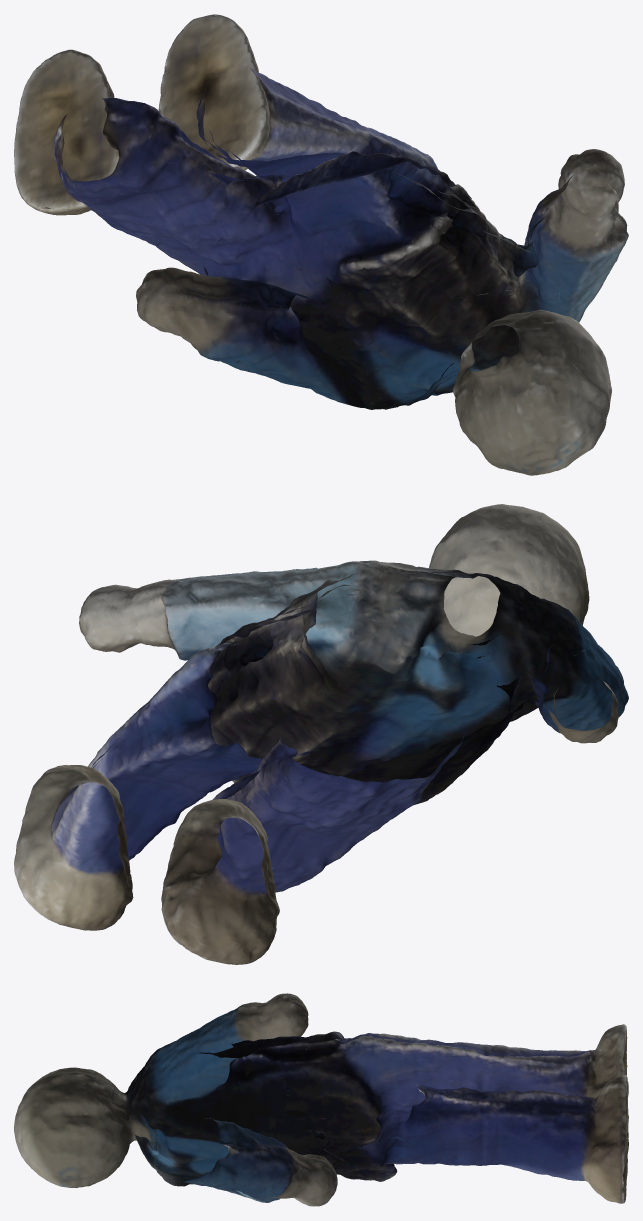
File: grandfather.glb
3 views of the same model, one above another, from view 1: azimuth 30°, elevation 25°; view 2: azimuth 150°, elevation 25°; view 3: azimuth 270°, elevation 25° (orthographic). The views are drawn at different scales.
Size of the model in its own units: 0.6906 by 0.2387 by 1.
